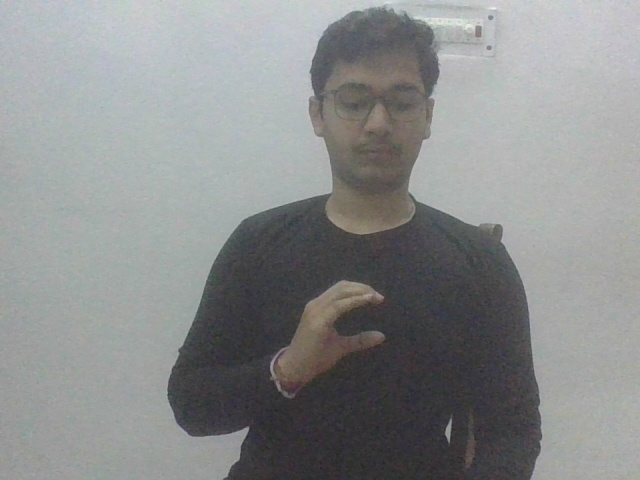C: (290, 272, 396, 390)
